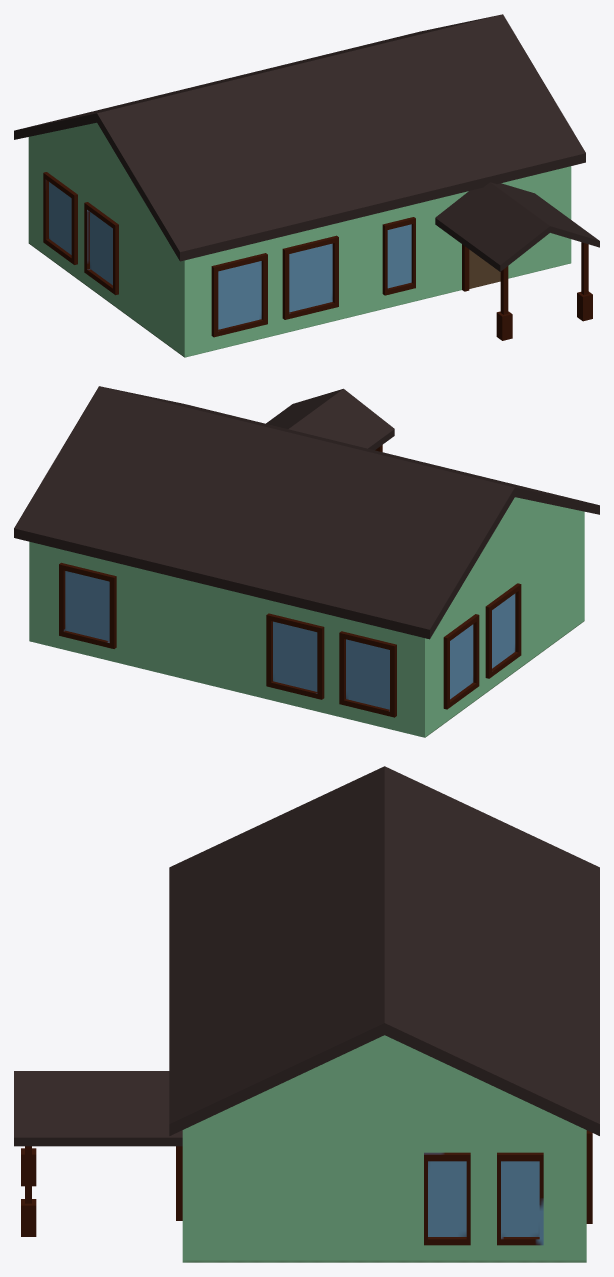
The model's file is OSHouse03.glb.
3 renders of one model, top to bottom at view 1: azimuth 30°, elevation 25°; view 2: azimuth 150°, elevation 25°; view 3: azimuth 270°, elevation 25°, orthographic. The views are drawn at different scales.
Visible parts, largest first — view 1: OSHouse03Roof, OSHouse03, OSHouse03Pillars; view 2: OSHouse03Roof, OSHouse03; view 3: OSHouse03Roof, OSHouse03, OSHouse03Pillars.
Boxes of the visible parts, left/top/right/bottom form: OSHouse03Roof: left=14, top=14, right=599, bottom=271; OSHouse03: left=28, top=122, right=571, bottom=357; OSHouse03Pillars: left=496, top=242, right=592, bottom=340; OSHouse03Roof: left=14, top=386, right=599, bottom=639; OSHouse03: left=29, top=497, right=584, bottom=737; OSHouse03Roof: left=14, top=766, right=599, bottom=1146; OSHouse03: left=176, top=1035, right=592, bottom=1262; OSHouse03Pillars: left=21, top=1146, right=36, bottom=1236.
Size of what is drawn, in the model's own units: 6.84 by 3.05 by 6.6.
Materials: 2 (1 with a texture image).
